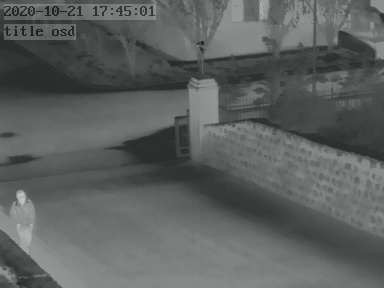person: (11, 187, 37, 251)
